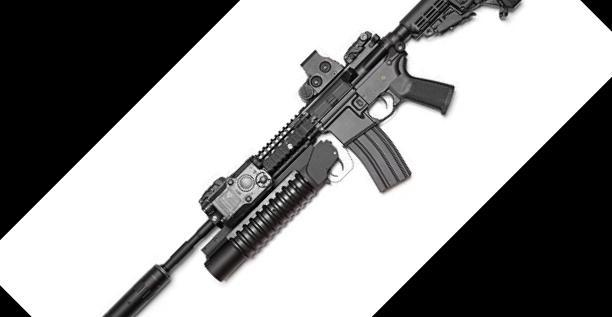larga: (102, 0, 521, 317)
